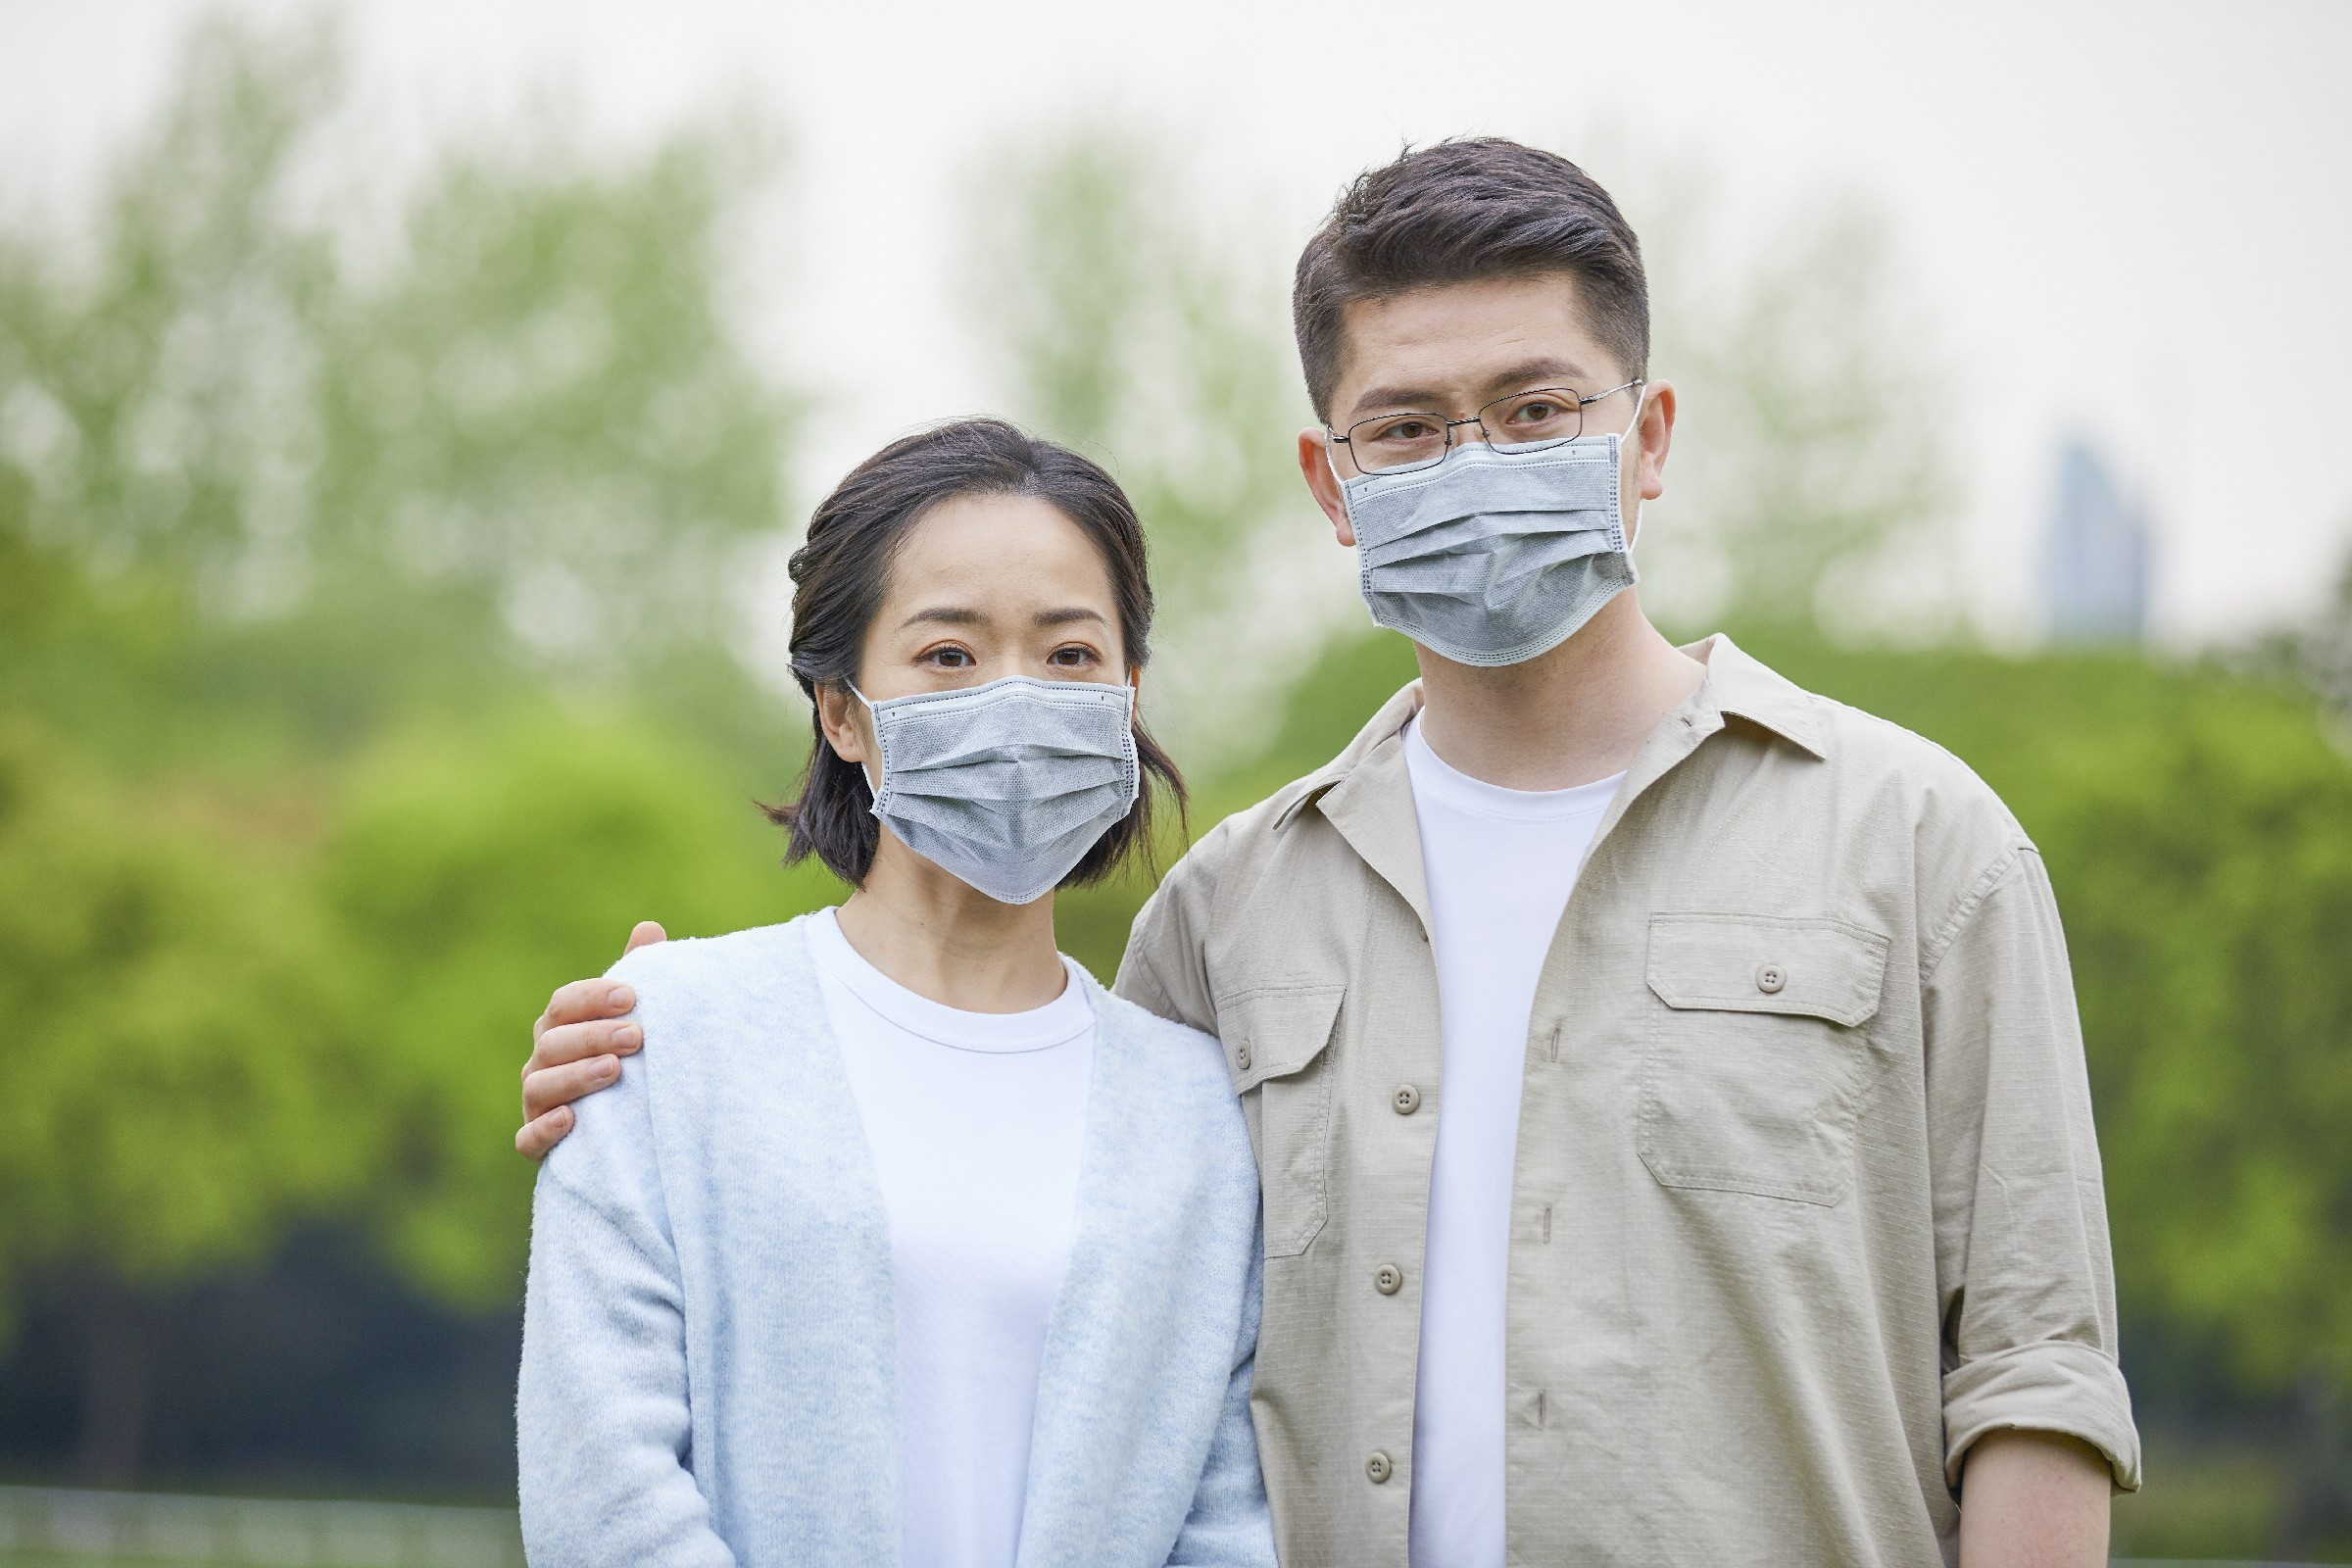mask: (1326, 315, 1669, 674), (865, 518, 1144, 912)
